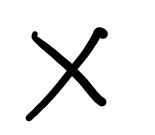mult: (28, 27, 106, 121)
